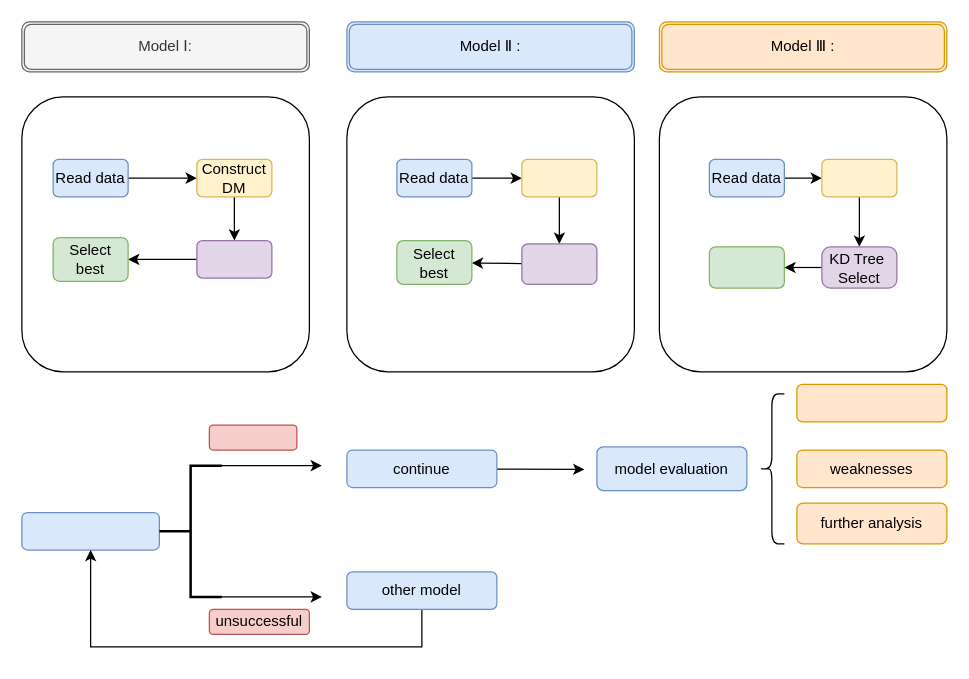
Image size: 969x679. Some labels were removed from this diagram. The shapes that lost their labels are listed below. From the top down, each one's centre as x and y in pixels, then its label:
At (x=559, y=177): "Build KD Tree".
At (x=859, y=177): "HFBNNA".
At (x=234, y=258): "Matrix computing".
At (x=559, y=263): "Point query".
At (x=746, y=267): "Signal recovery".
At (x=871, y=402): "strengths".
At (x=252, y=437): "successful".
At (x=90, y=530): "Trials of model".
